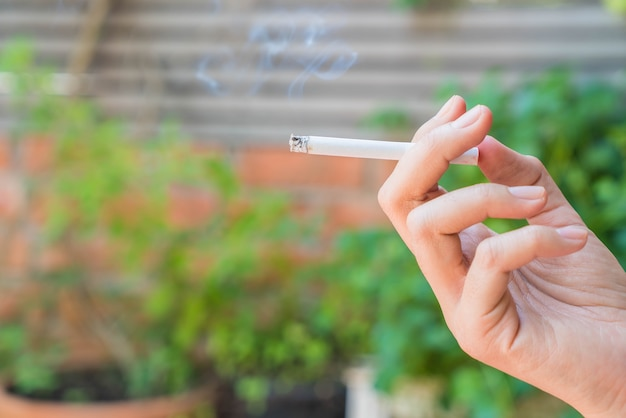cigarette: (288, 132, 481, 168)
